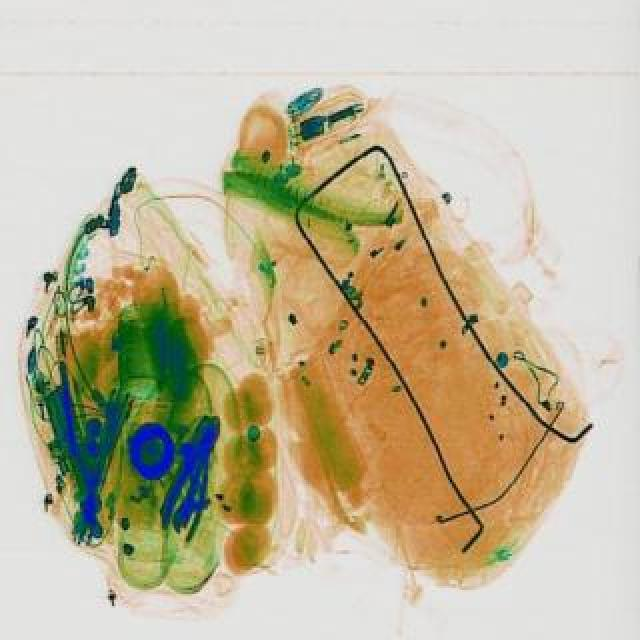wrench: (152, 410, 240, 542)
